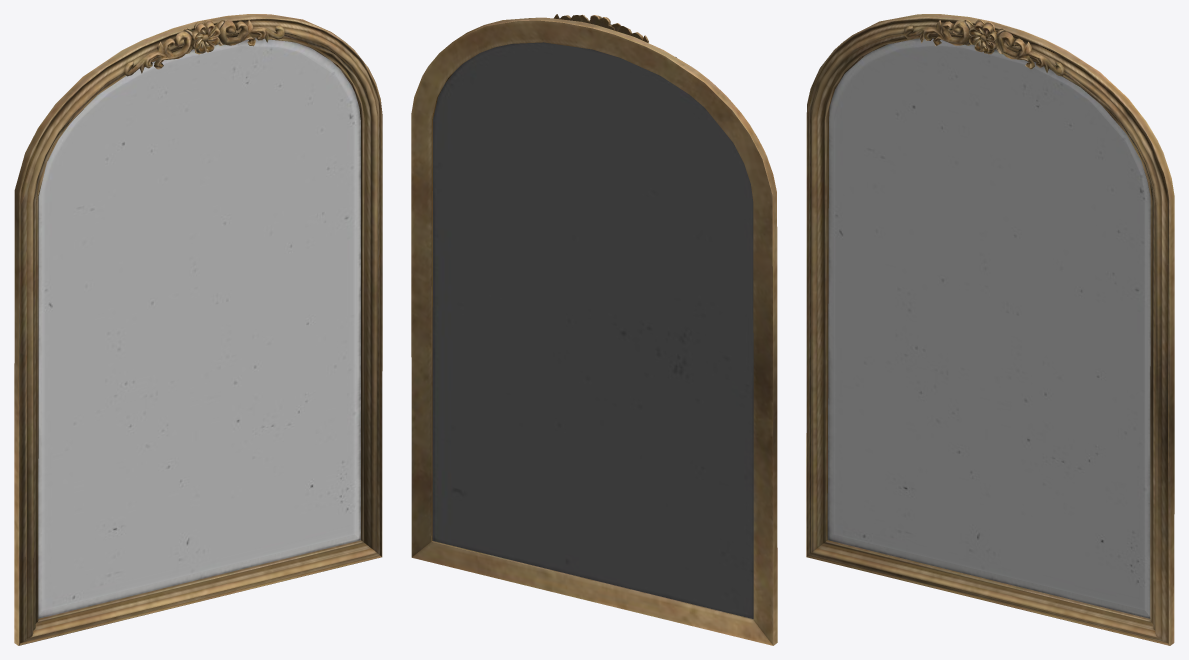
3 views of the same model, side by side, from view 1: azimuth 30°, elevation 25°; view 2: azimuth 150°, elevation 25°; view 3: azimuth 330°, elevation 25° (orthographic).
Parts seen in each view (by area): view 1: ornate_mirror_01; view 2: ornate_mirror_01; view 3: ornate_mirror_01.
Boxes of the visible parts, x1,y1,x2,y2 form: ornate_mirror_01: (14,14,382,645); ornate_mirror_01: (411,14,777,645); ornate_mirror_01: (806,14,1174,645).
Bounding box in the file's own units: 0.486 × 0.7437 × 0.026.
Materials: 1 (1 with a texture image).
